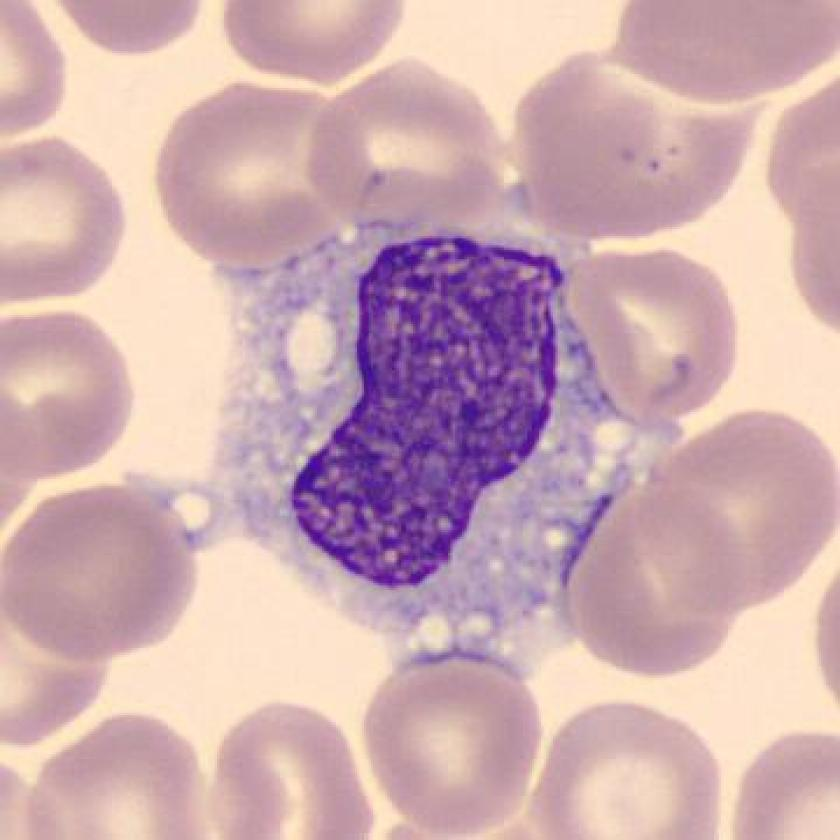monocyte: (186, 170, 697, 691)
